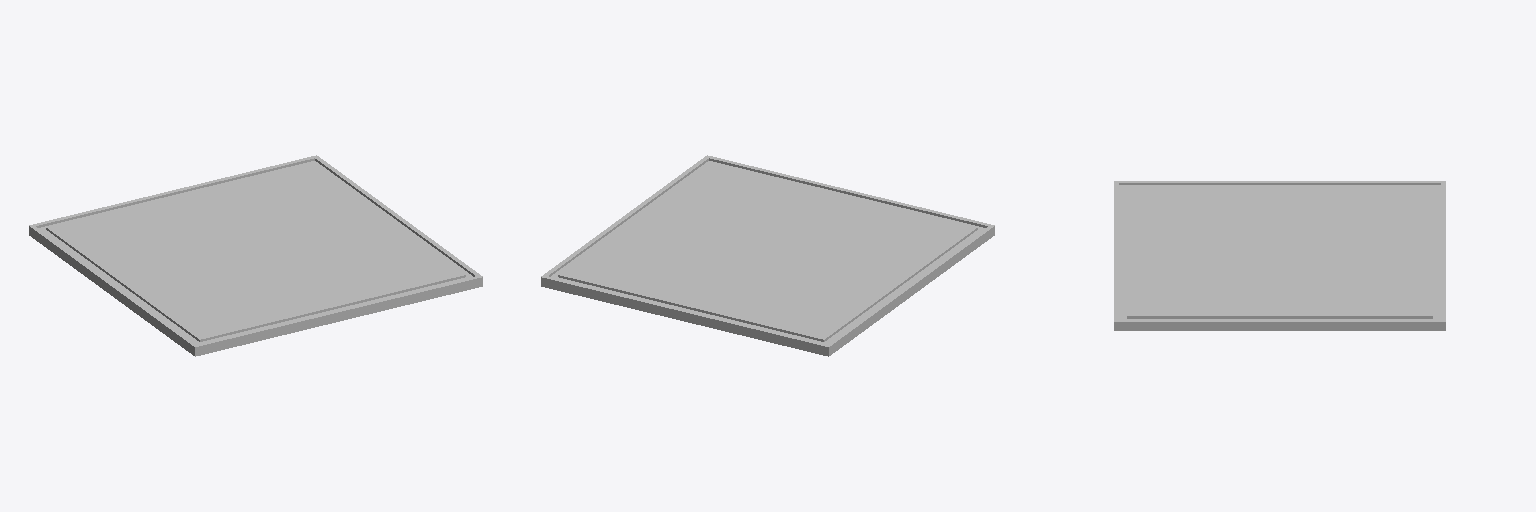
The model's file is FloorTile.obj.
3 renders of one model, left to right at view 1: azimuth 30°, elevation 25°; view 2: azimuth 150°, elevation 25°; view 3: azimuth 270°, elevation 25°, orthographic.
Parts seen in each view (by area): view 1: object 1; view 2: object 1; view 3: object 1.
Boxes of the visible parts, box(x1,y1,x2,y2) form: object 1: box(29, 155, 482, 356); object 1: box(541, 155, 994, 356); object 1: box(1114, 181, 1445, 330).
Size of the model in its own units: 12.8 by 0.4 by 12.8.